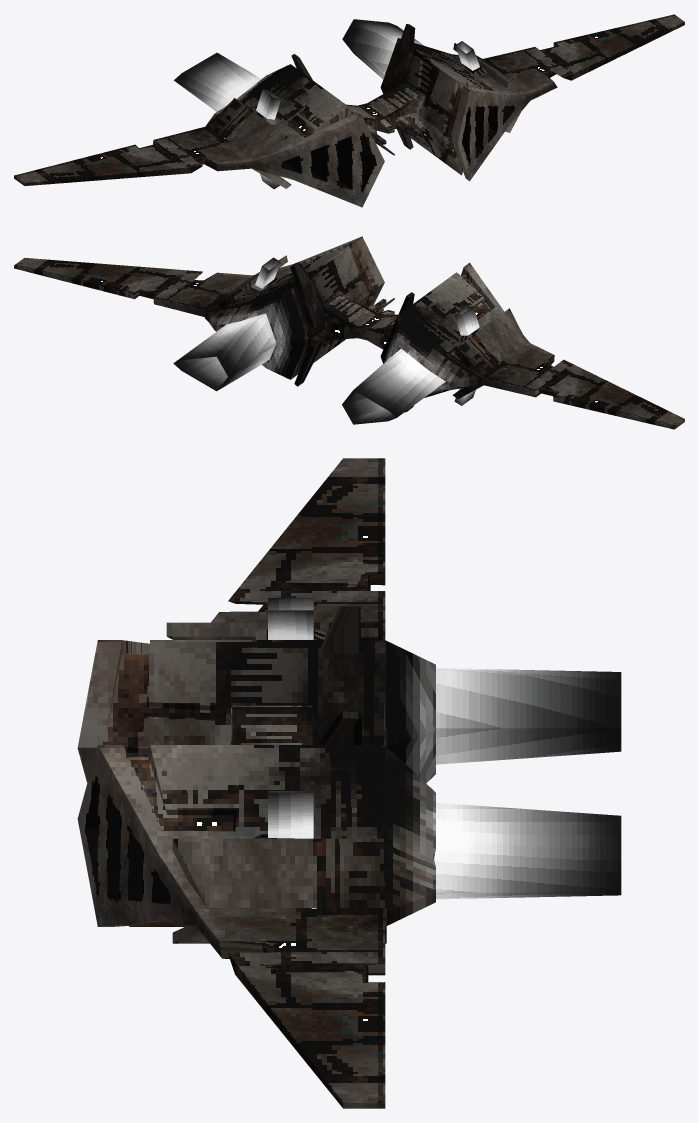
File: viking1.glb
3 renders of one model, top to bottom at view 1: azimuth 30°, elevation 25°; view 2: azimuth 150°, elevation 25°; view 3: azimuth 270°, elevation 25°, orthographic. The views are drawn at different scales.
Visible parts, largest first — view 1: viking1_hull_mesh, viking1_plate_R_mesh, viking1_exhaust_R_mesh, viking1_exhaust_L_mesh, viking1_plate_L_mesh, viking1_aux_exhaust_TR_mesh, viking1_aux_exhaust_TL_mesh, viking1_engines_mesh, viking1_gun_L_mesh; view 2: viking1_hull_mesh, viking1_engines_mesh, viking1_exhaust_L_mesh, viking1_exhaust_R_mesh, viking1_plate_R_mesh, viking1_plate_L_mesh, viking1_aux_exhaust_TR_mesh, viking1_aux_exhaust_TL_mesh; view 3: viking1_hull_mesh, viking1_exhaust_L_mesh, viking1_exhaust_R_mesh, viking1_plate_L_mesh, viking1_engines_mesh, viking1_plate_R_mesh, viking1_aux_exhaust_TL_mesh, viking1_aux_exhaust_TR_mesh.
Part boxes in pixels (box(x1,y1,x2,y2)): viking1_hull_mesh: box(14, 14, 684, 207); viking1_plate_R_mesh: box(208, 98, 291, 188); viking1_exhaust_R_mesh: box(174, 52, 261, 111); viking1_exhaust_L_mesh: box(342, 19, 423, 78); viking1_plate_L_mesh: box(453, 43, 525, 132); viking1_aux_exhaust_TR_mesh: box(256, 89, 280, 119); viking1_aux_exhaust_TL_mesh: box(455, 41, 479, 70); viking1_engines_mesh: box(205, 64, 289, 126); viking1_gun_L_mesh: box(393, 116, 429, 146); viking1_hull_mesh: box(14, 236, 684, 429); viking1_engines_mesh: box(205, 289, 483, 397); viking1_exhaust_L_mesh: box(173, 313, 276, 391); viking1_exhaust_R_mesh: box(342, 348, 445, 424); viking1_plate_R_mesh: box(452, 308, 526, 398); viking1_plate_L_mesh: box(205, 255, 287, 320); viking1_aux_exhaust_TR_mesh: box(454, 306, 479, 335); viking1_aux_exhaust_TL_mesh: box(255, 257, 280, 288); viking1_hull_mesh: box(77, 458, 385, 1108); viking1_exhaust_L_mesh: box(434, 803, 621, 899); viking1_exhaust_R_mesh: box(436, 668, 621, 764); viking1_plate_L_mesh: box(172, 838, 386, 943); viking1_engines_mesh: box(385, 640, 435, 925); viking1_plate_R_mesh: box(166, 622, 380, 639); viking1_aux_exhaust_TL_mesh: box(268, 791, 313, 838); viking1_aux_exhaust_TR_mesh: box(268, 598, 313, 639).
Size of the model in its own units: 7.93 by 1.38 by 2.83.
4 materials, 4 textured.
